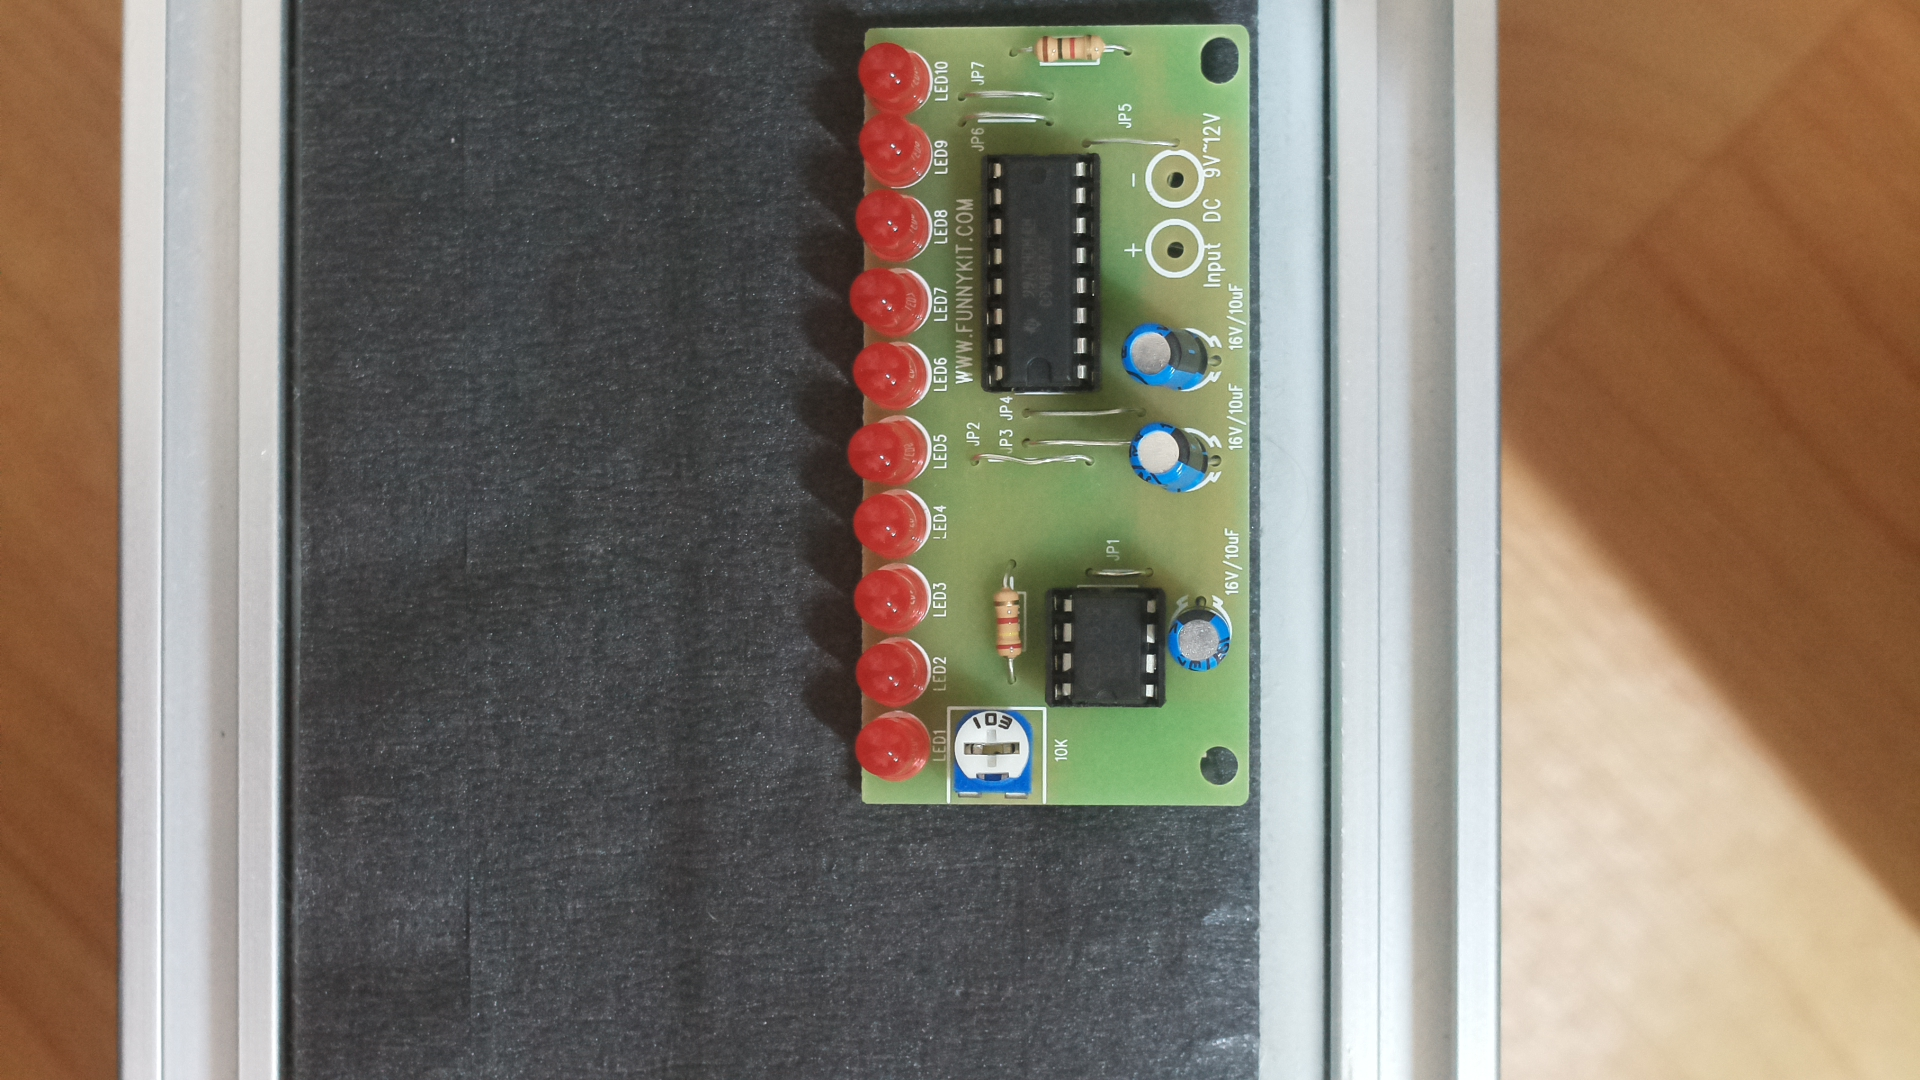B_Normal: (851, 9, 1254, 820)
